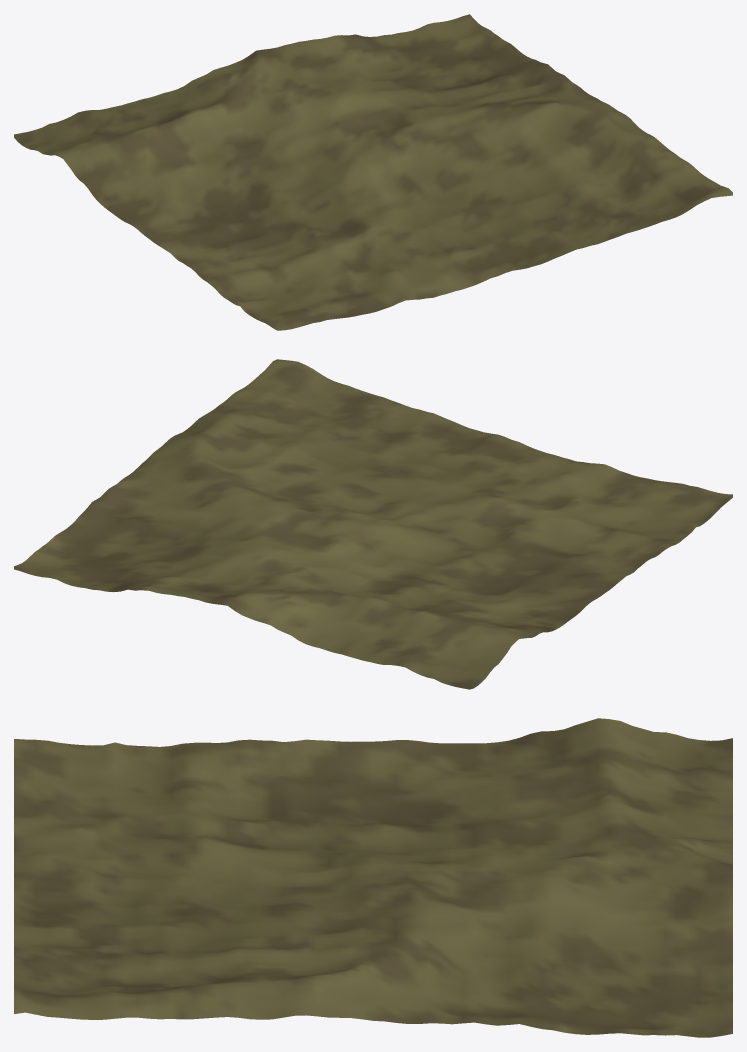
Rendered from land_f_05_01.glb.
The picture shows the model from 3 angles, top to bottom: view 1: azimuth 30°, elevation 25°; view 2: azimuth 150°, elevation 25°; view 3: azimuth 270°, elevation 25°; orthographic projection. The views are drawn at different scales.
Visible parts, largest first — view 1: land_f_05_01; view 2: land_f_05_01; view 3: land_f_05_01.
Boxes of the visible parts, x1,y1,x2,y2 form: land_f_05_01: (14,14,732,330); land_f_05_01: (14,359,732,689); land_f_05_01: (14,718,732,1037).
Bounding box in the file's own units: 3840 × 346 × 3840.
